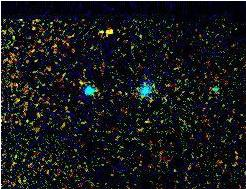star: (89, 16, 119, 46)
